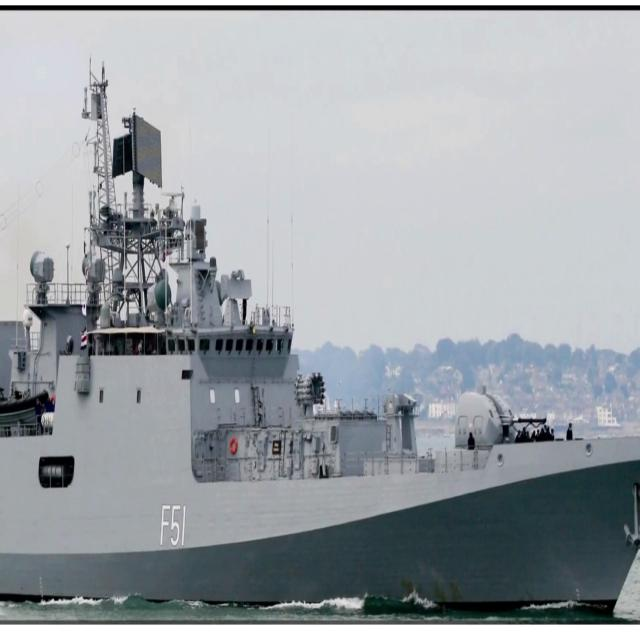OCR: (160, 501, 193, 553)
